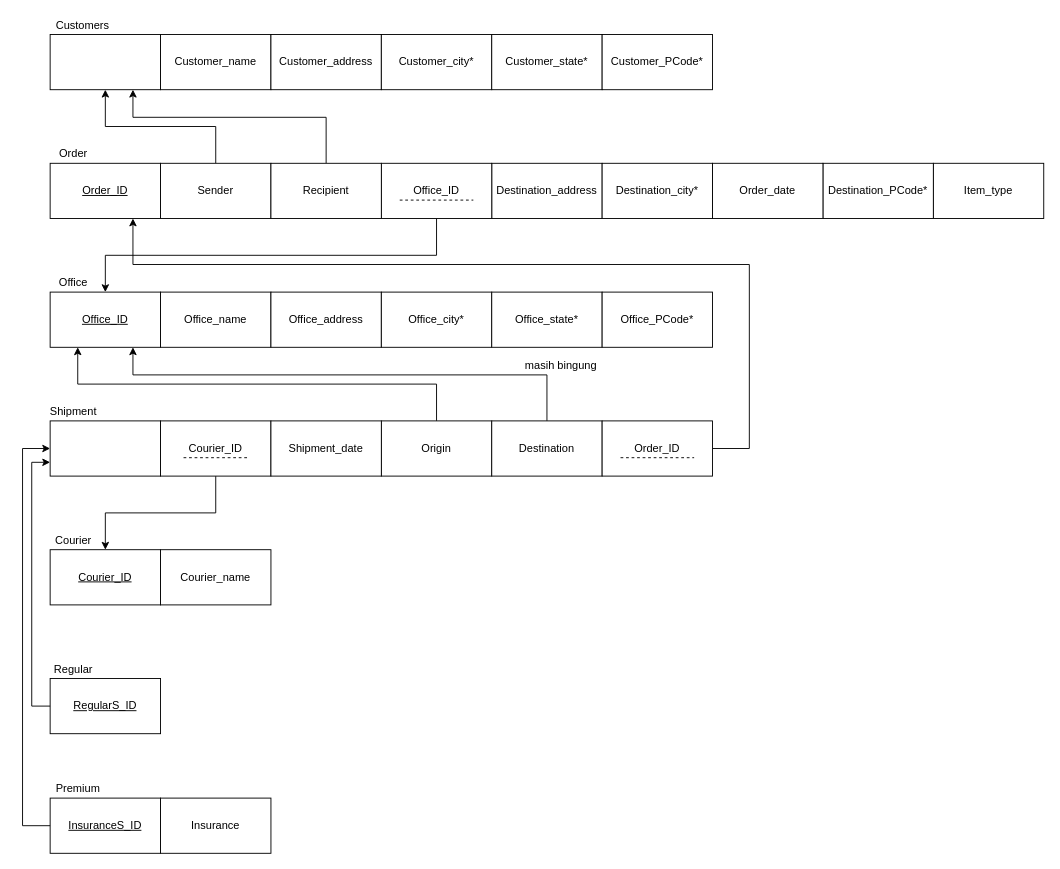
This 1060x869 diagram has some shape labels left out. Each missing label, with the centre of its shape:
"Customer_ID" belongs at pixel 105 62.
"Shipment_ID" belongs at pixel 105 448.
